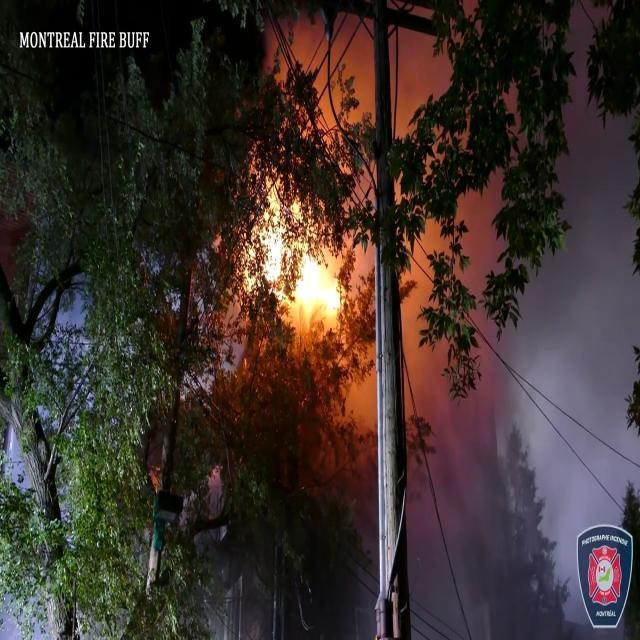Fire: (237, 176, 347, 338)
